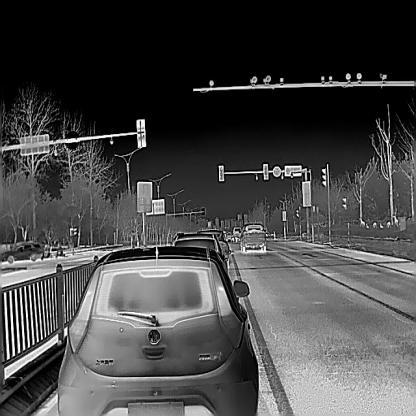car: (57, 246, 259, 415), (170, 233, 230, 275), (196, 229, 230, 267), (1, 240, 43, 263), (238, 223, 267, 250), (232, 227, 241, 241)
